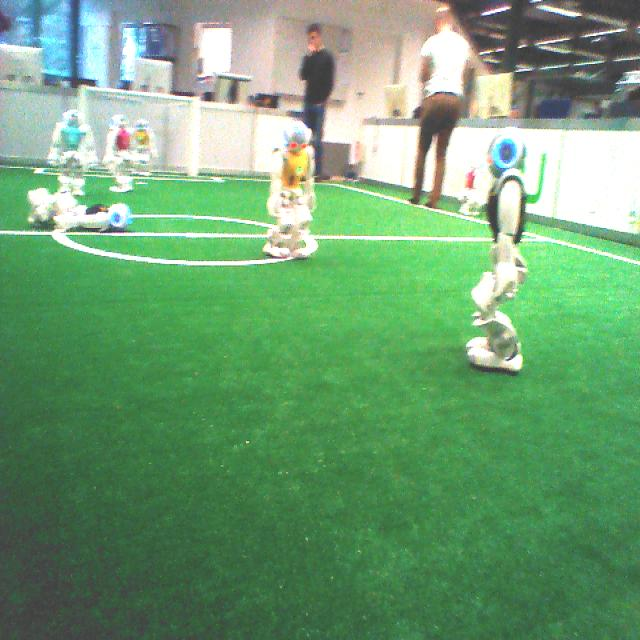goalpost: (189, 99, 202, 177), (76, 84, 86, 113)
